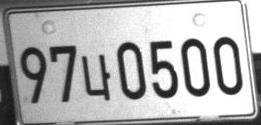0: (115, 41, 147, 101), (212, 35, 243, 96), (180, 37, 211, 97)
5: (149, 39, 179, 99)
7: (48, 44, 77, 102)
9: (19, 45, 48, 104)
나: (80, 54, 111, 101)
